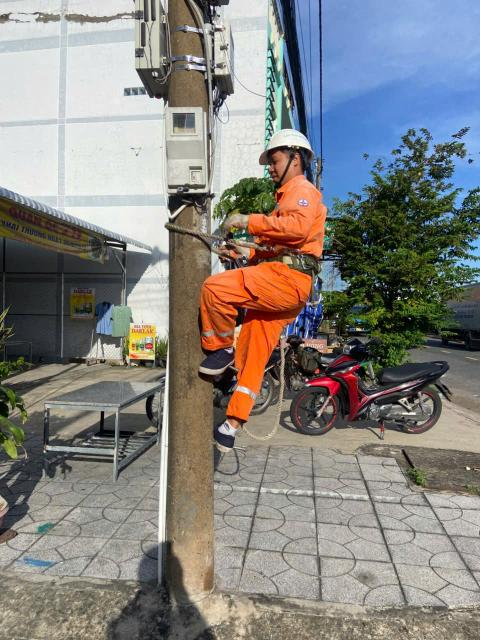gloves: (214, 211, 261, 238), (210, 242, 266, 261)
harness: (263, 247, 332, 282)
helmet: (249, 124, 320, 164)
shoes: (206, 417, 243, 463), (198, 341, 241, 379)
